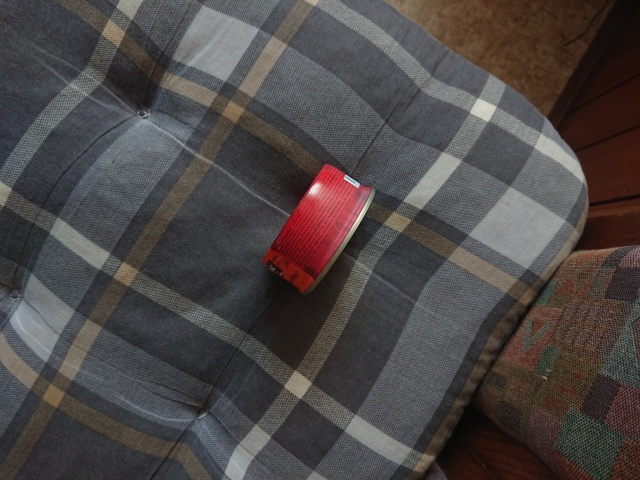Gavrilovic Pork Liver Pate 100g: (256, 159, 380, 300)
